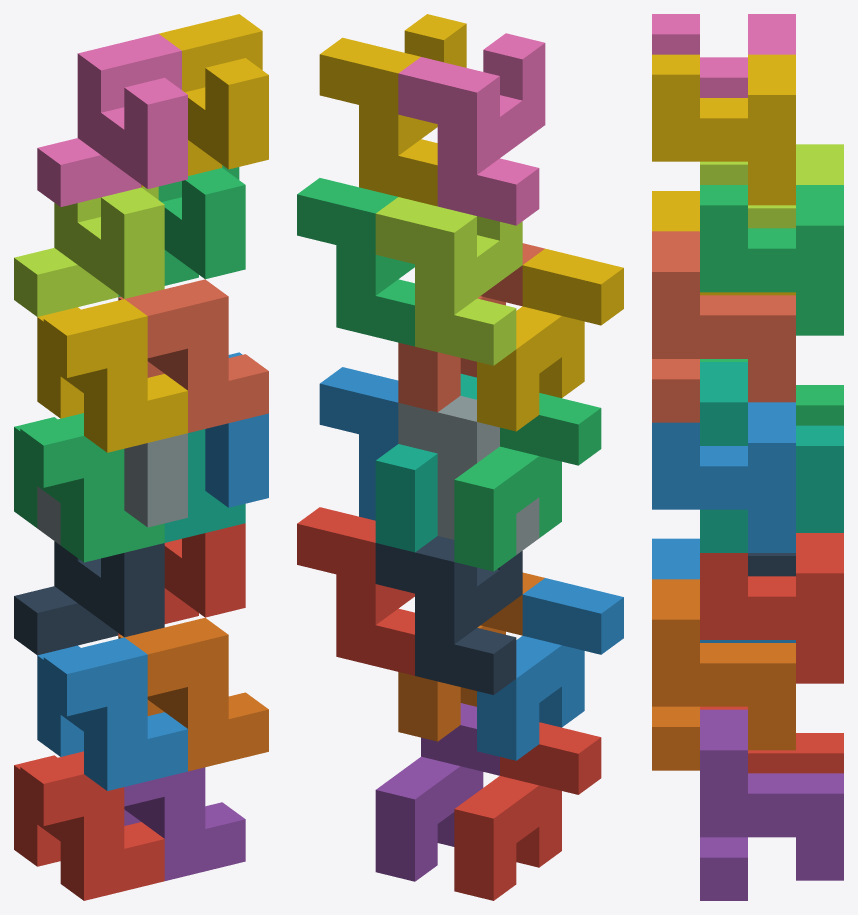
The model's file is tiling.obj.
3 renders of one model, left to right at view 1: azimuth 30°, elevation 25°; view 2: azimuth 150°, elevation 25°; view 3: azimuth 270°, elevation 25°, orthographic. The views are drawn at different scales.
Parts seen in each view (by area): view 1: copy_2_domain_4, copy_1_domain_4, copy_1_domain_2, copy_1_domain_1, copy_2_domain_3, copy_1_domain_3, copy_2_domain_8, copy_1_domain_8, copy_1_domain_6, copy_2_domain_1, copy_2_domain_7, copy_1_domain_5 (+4 smaller); view 2: copy_2_domain_4, copy_2_domain_3, copy_1_domain_1, copy_1_domain_4, copy_1_domain_2, copy_2_domain_1, copy_1_domain_3, copy_2_domain_8, copy_1_domain_5, copy_2_domain_7, copy_2_domain_5, copy_2_domain_2 (+4 smaller); view 3: copy_1_domain_5, copy_1_domain_6, copy_1_domain_8, copy_2_domain_7, copy_2_domain_8, copy_2_domain_6, copy_2_domain_5, copy_1_domain_7, copy_2_domain_4, copy_2_domain_3, copy_1_domain_1, copy_1_domain_4 (+3 smaller).
Boxes of the visible parts, <box> form: copy_2_domain_4: <box>37,33,187,206</box>; copy_1_domain_4: <box>37,299,187,452</box>; copy_1_domain_2: <box>37,637,187,790</box>; copy_1_domain_1: <box>14,751,164,900</box>; copy_2_domain_3: <box>14,186,164,316</box>; copy_1_domain_3: <box>14,413,164,562</box>; copy_2_domain_8: <box>141,14,268,187</box>; copy_1_domain_8: <box>118,279,268,432</box>; copy_1_domain_6: <box>118,618,268,771</box>; copy_2_domain_1: <box>14,541,164,655</box>; copy_2_domain_7: <box>118,165,245,297</box>; copy_1_domain_5: <box>124,767,245,880</box>; copy_2_domain_4: <box>398,33,545,225</box>; copy_2_domain_3: <box>375,197,522,365</box>; copy_1_domain_1: <box>454,722,601,900</box>; copy_1_domain_4: <box>477,248,623,431</box>; copy_1_domain_2: <box>477,578,623,760</box>; copy_2_domain_1: <box>375,536,522,694</box>; copy_1_domain_3: <box>454,393,601,571</box>; copy_2_domain_8: <box>319,14,466,206</box>; copy_1_domain_5: <box>375,703,499,881</box>; copy_2_domain_7: <box>297,178,414,346</box>; copy_2_domain_5: <box>297,507,414,675</box>; copy_2_domain_2: <box>398,396,539,554</box>; copy_1_domain_5: <box>700,709,843,900</box>; copy_1_domain_6: <box>652,579,795,770</box>; copy_1_domain_8: <box>652,231,795,422</box>; copy_2_domain_7: <box>700,185,843,335</box>; copy_2_domain_8: <box>652,54,795,205</box>; copy_2_domain_6: <box>652,402,795,552</box>; copy_2_domain_5: <box>700,533,843,683</box>; copy_1_domain_7: <box>700,362,843,552</box>; copy_2_domain_4: <box>652,14,795,97</box>; copy_2_domain_3: <box>700,144,843,228</box>; copy_1_domain_1: <box>700,706,843,773</box>; copy_1_domain_4: <box>652,191,795,295</box>.
Bounding box in the file's own units: 6 × 19 × 4.
